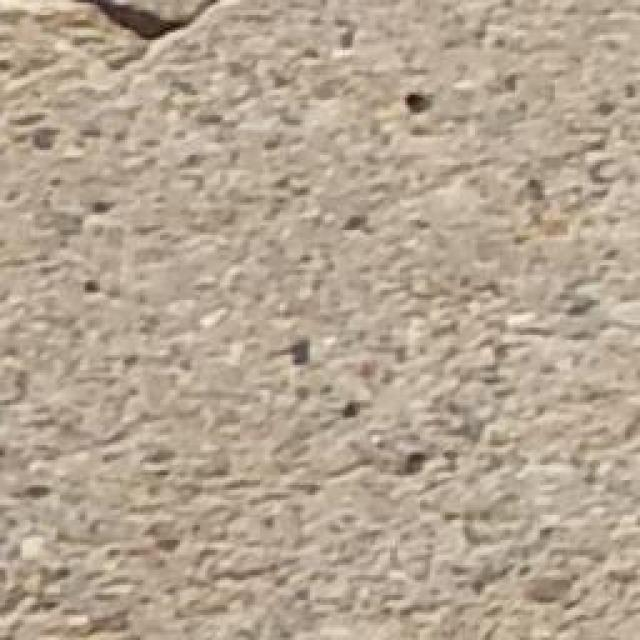concrete-crack: (83, 2, 218, 53)
